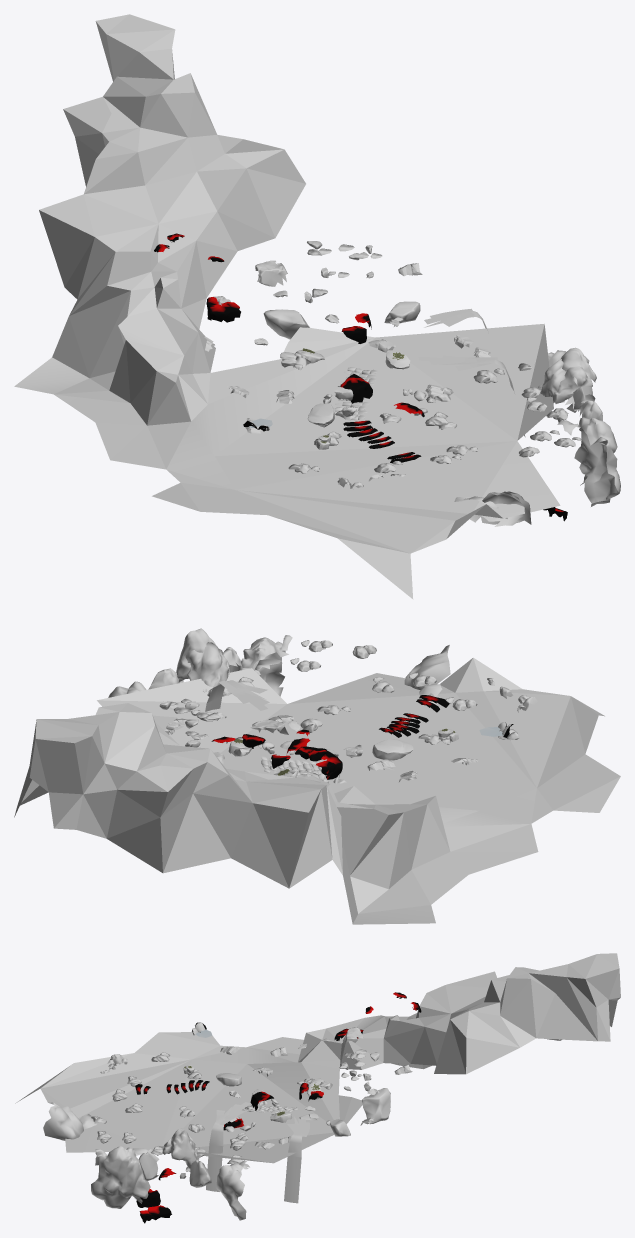
3 views of the same model, one above another, from view 1: azimuth 30°, elevation 25°; view 2: azimuth 150°, elevation 25°; view 3: azimuth 270°, elevation 25° (orthographic). The views are drawn at different scales.
Visible parts, largest first — view 1: m01a01OMesh_OccluderMesh_0, m01a01iwa01_1_Group_0_Sub_1__B_iwa2, m01a01iwa01_1_Group_0_Sub_2__B_iwa01, m01a01iwa01_1_Group_0_Sub_3__B_iwa19_mos_wet, m01a01iwa02_1_Group_0_Sub_4__B_VBlend25, m01a01iwa02_1_Group_0_Sub_3__B_iwa2, m01a01taki01_1_Group_0_Sub_1__A_taki01, m01a01iwa01_1_Group_0_Sub_4__B_iwa01_Default1; view 2: m01a01OMesh_OccluderMesh_0, m01a01iwa01_1_Group_0_Sub_3__B_iwa19_mos_wet, m01a01iwa01_1_Group_0_Sub_1__B_iwa2, m01a01iwa01_1_Group_0_Sub_2__B_iwa01, m01a01iwa02_1_Group_0_Sub_3__B_iwa2, m01a01iwa02_1_Group_0_Sub_4__B_VBlend25, m01a01taki01_1_Group_0_Sub_1__A_taki01, m01a01iwa01_1_Group_0_Sub_4__B_iwa01_Default1, m01a01isidan_1_Group_0_Sub_1__m01a02d_kaidan__rock01; view 3: m01a01OMesh_OccluderMesh_0, m01a01iwa01_1_Group_0_Sub_1__B_iwa2, m01a01iwa01_1_Group_0_Sub_3__B_iwa19_mos_wet, m01a01iwa01_1_Group_0_Sub_2__B_iwa01, m01a01taki01_1_Group_0_Sub_1__A_taki01, m01a01iwa02_1_Group_0_Sub_4__B_VBlend25, m01a01iwa02_1_Group_0_Sub_3__B_iwa2.
Boxes of the visible parts, x1,y1,x2,y2 form: m01a01OMesh_OccluderMesh_0: (14, 14, 560, 599); m01a01iwa01_1_Group_0_Sub_1__B_iwa2: (540, 347, 620, 506); m01a01iwa01_1_Group_0_Sub_2__B_iwa01: (204, 241, 490, 449); m01a01iwa01_1_Group_0_Sub_3__B_iwa19_mos_wet: (288, 363, 602, 488); m01a01iwa02_1_Group_0_Sub_4__B_VBlend25: (154, 233, 567, 521); m01a01iwa02_1_Group_0_Sub_3__B_iwa2: (254, 260, 531, 526); m01a01taki01_1_Group_0_Sub_1__A_taki01: (418, 308, 525, 437); m01a01iwa01_1_Group_0_Sub_4__B_iwa01_Default1: (298, 350, 410, 444); m01a01OMesh_OccluderMesh_0: (14, 657, 620, 924); m01a01iwa01_1_Group_0_Sub_3__B_iwa19_mos_wet: (148, 640, 537, 744); m01a01iwa01_1_Group_0_Sub_1__B_iwa2: (108, 628, 292, 697); m01a01iwa01_1_Group_0_Sub_2__B_iwa01: (159, 698, 477, 781); m01a01iwa02_1_Group_0_Sub_3__B_iwa2: (194, 645, 450, 756); m01a01iwa02_1_Group_0_Sub_4__B_VBlend25: (211, 730, 342, 779); m01a01taki01_1_Group_0_Sub_1__A_taki01: (153, 680, 269, 729); m01a01iwa01_1_Group_0_Sub_4__B_iwa01_Default1: (231, 729, 456, 776); m01a01isidan_1_Group_0_Sub_1__m01a02d_kaidan__rock01: (261, 756, 343, 778); m01a01OMesh_OccluderMesh_0: (15, 953, 620, 1163); m01a01iwa01_1_Group_0_Sub_1__B_iwa2: (91, 1128, 249, 1220); m01a01iwa01_1_Group_0_Sub_3__B_iwa19_mos_wet: (91, 1052, 245, 1187); m01a01iwa01_1_Group_0_Sub_2__B_iwa01: (183, 1046, 412, 1149); m01a01taki01_1_Group_0_Sub_1__A_taki01: (206, 1102, 309, 1203); m01a01iwa02_1_Group_0_Sub_4__B_VBlend25: (136, 992, 421, 1223); m01a01iwa02_1_Group_0_Sub_3__B_iwa2: (43, 1027, 363, 1140).
Bounding box in the file's own units: 20265 × 12750 × 32053.
